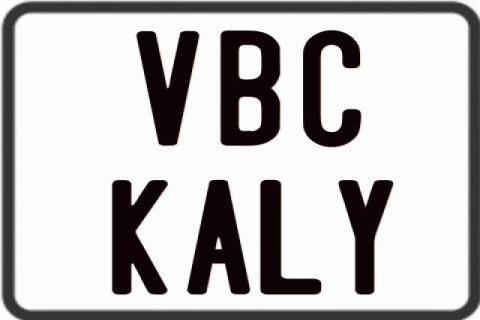A: (185, 179, 252, 295)
B: (219, 29, 278, 147)
C: (301, 30, 363, 148)
K: (110, 178, 172, 292)
L: (260, 179, 326, 295)
V: (136, 30, 199, 146)
Y: (339, 180, 397, 299)
